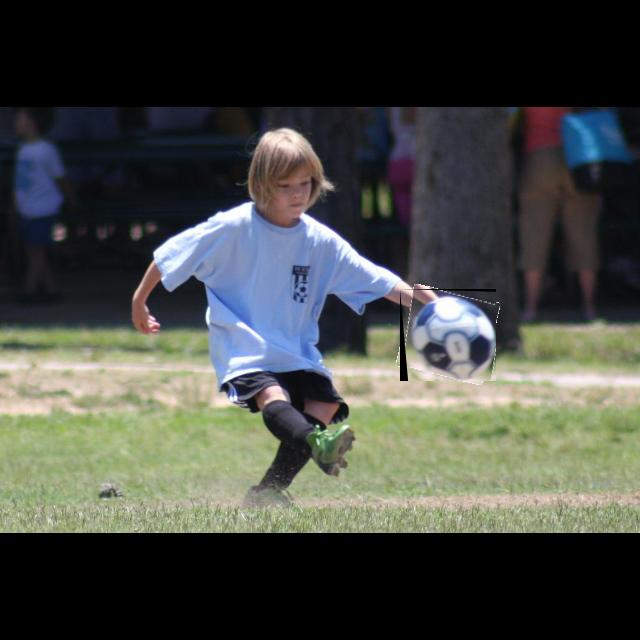Football: (400, 289, 496, 381)
